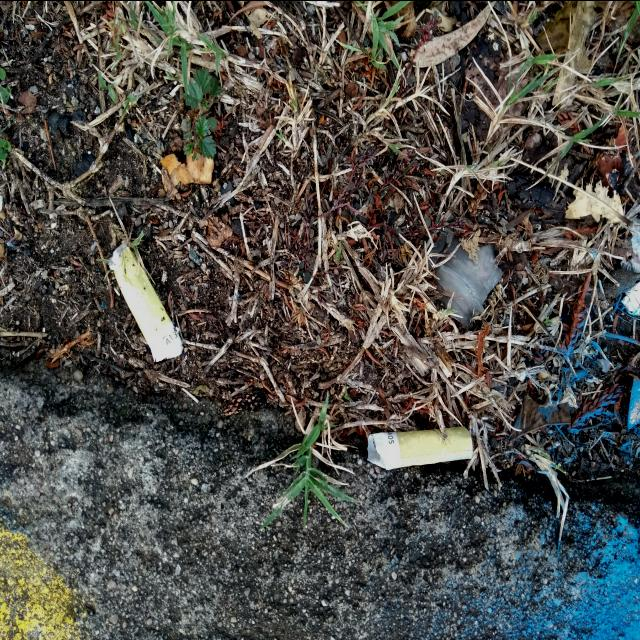Cigarette: (109, 240, 183, 361), (368, 425, 473, 469)
Other plastic bottle: (434, 235, 503, 324)
